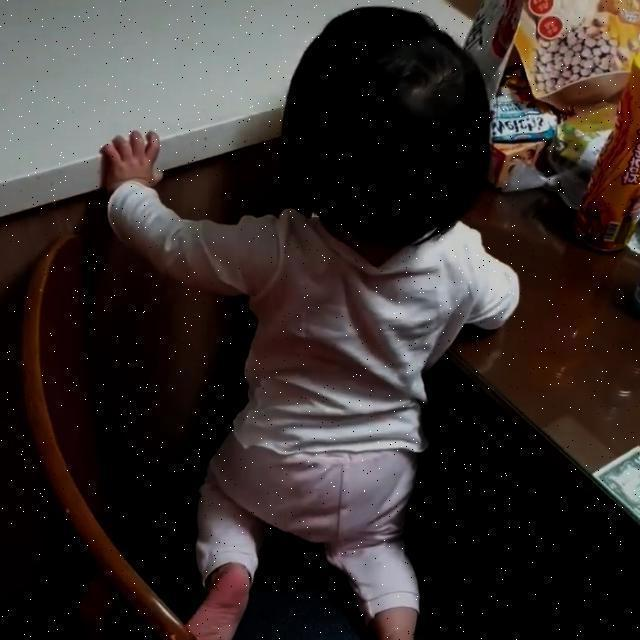child: (104, 7, 523, 640)
